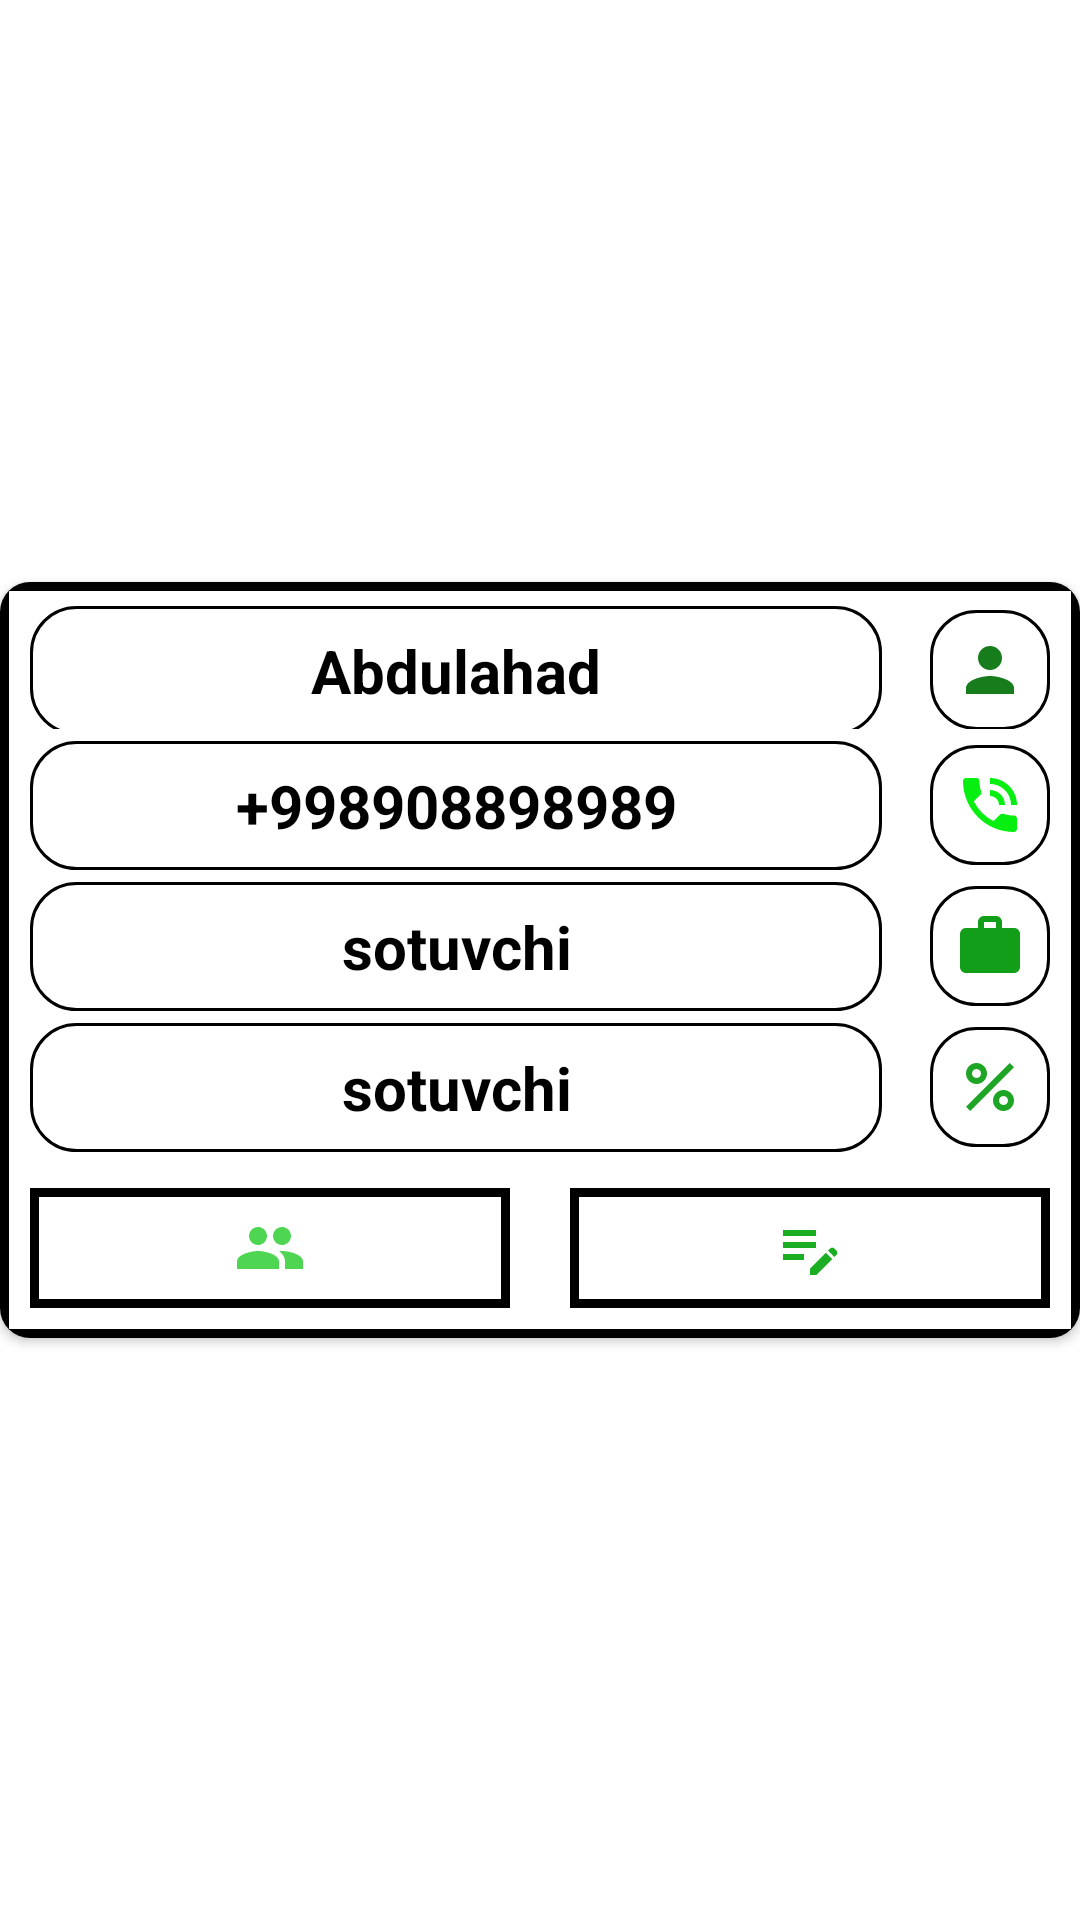

Screen size 1080x1920. Icon name, then its box in pixels as (x1, y1, x2, y2):
percent: (930, 1027, 1050, 1147)
person: (930, 610, 1050, 729)
phone: (930, 745, 1050, 865)
work: (930, 886, 1050, 1006)
